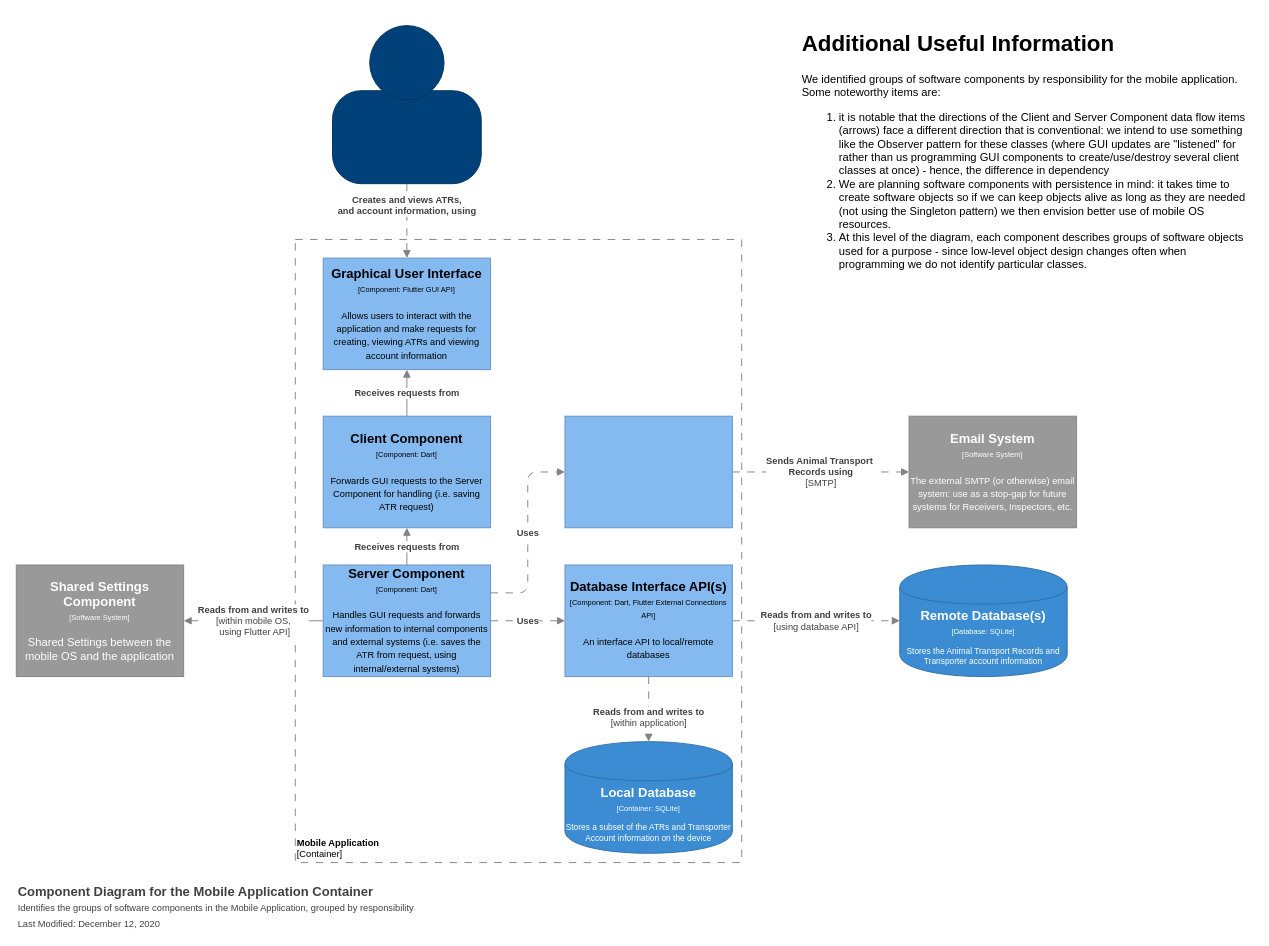
This 1269x946 diagram has some shape labels left out. Each missing label, with the centre of its shape:
"Email Interface API [Component: Dart, SMTP] An interface API to the Email System" goes at (648,471).
"Transporter [Person] A Canadian Livestock Transporter, with an account" goes at (406,137).
